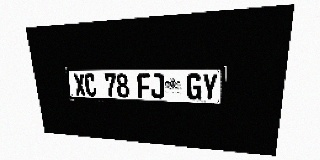7: (104, 74, 117, 97)
8: (116, 74, 129, 98)
C: (84, 74, 97, 96)
F: (137, 74, 151, 98)
G: (187, 73, 202, 100)
J: (150, 73, 164, 99)
X: (73, 74, 86, 96)
Y: (202, 73, 218, 101)
